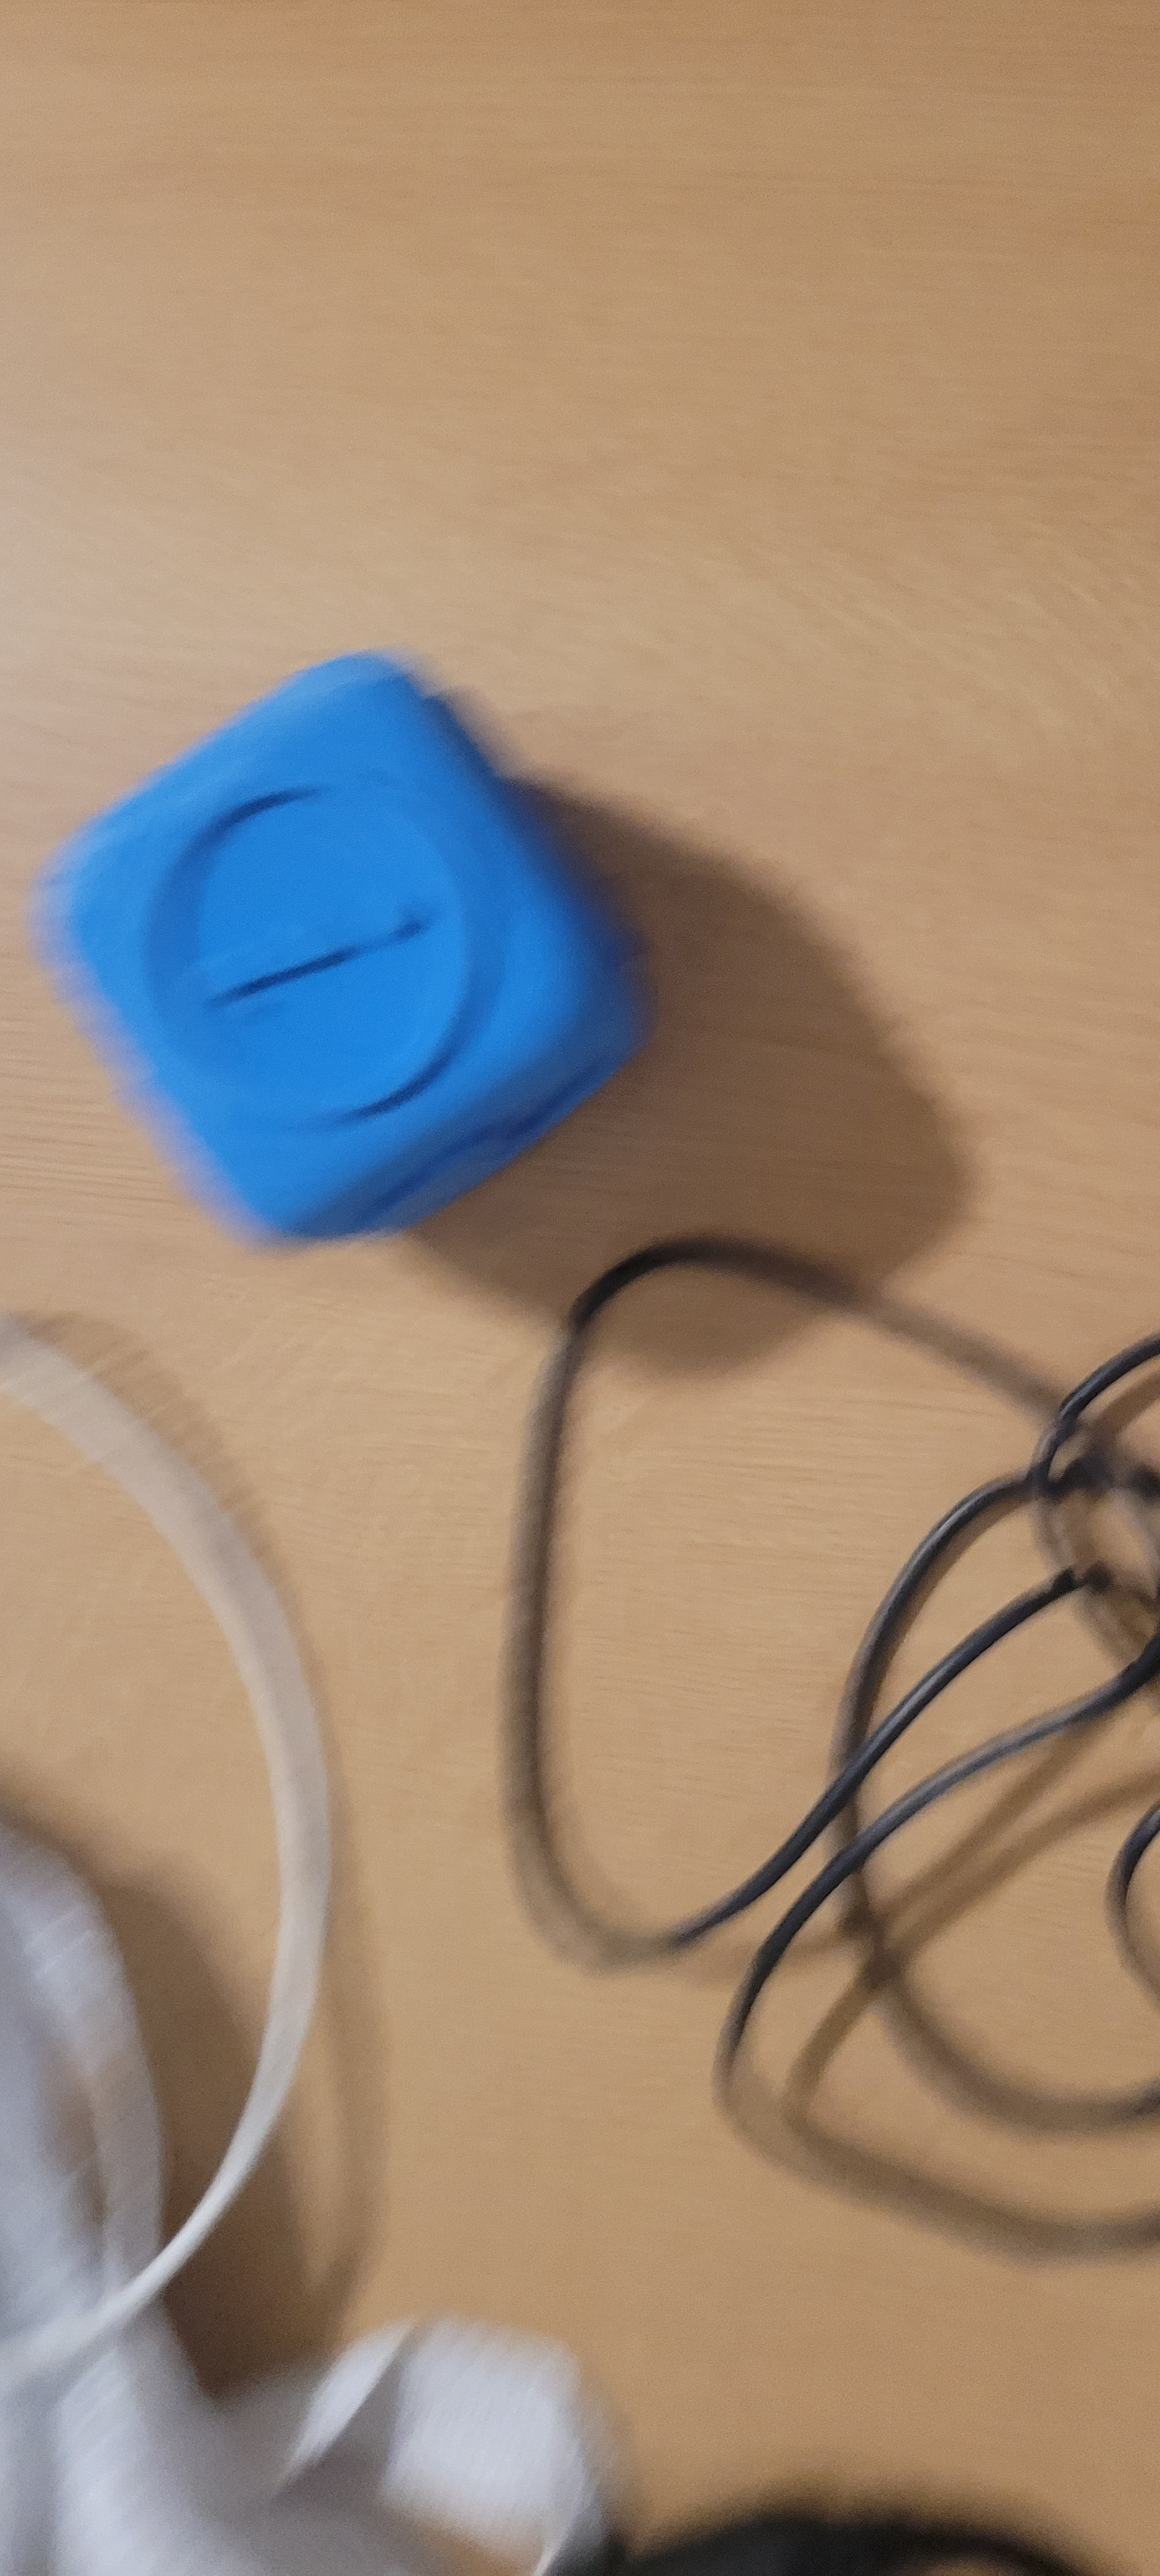Info: (89, 752, 552, 1129)
